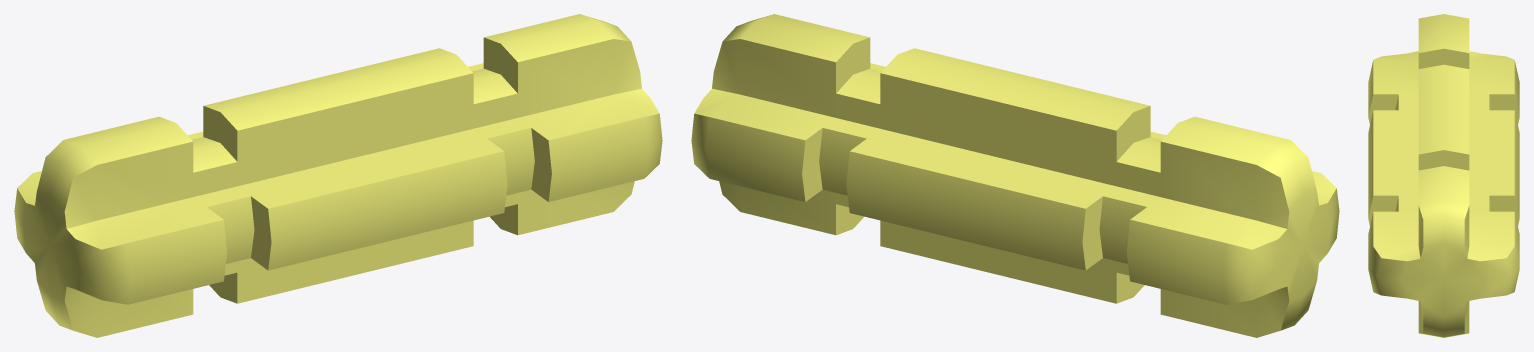
The picture shows the model from 3 angles, left to right: view 1: azimuth 30°, elevation 25°; view 2: azimuth 150°, elevation 25°; view 3: azimuth 270°, elevation 25°; orthographic projection. The views are drawn at different scales.
Parts seen in each view (by area): view 1: 32062.dat; view 2: 32062.dat; view 3: 32062.dat.
Boxes of the visible parts, bbox=[...] form: 32062.dat: bbox=[14, 14, 662, 337]; 32062.dat: bbox=[691, 14, 1339, 337]; 32062.dat: bbox=[1368, 14, 1519, 337].
Bounding box in the file's own units: 0.0156 × 0.0048 × 0.0048.
